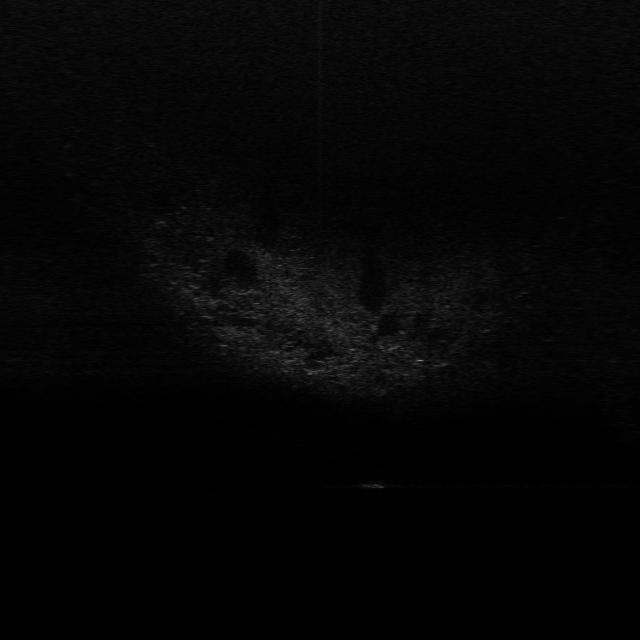cube: (353, 476, 392, 490)
